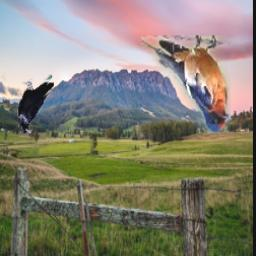Crow: (17, 74, 54, 133)
Swallow: (141, 37, 231, 134)
